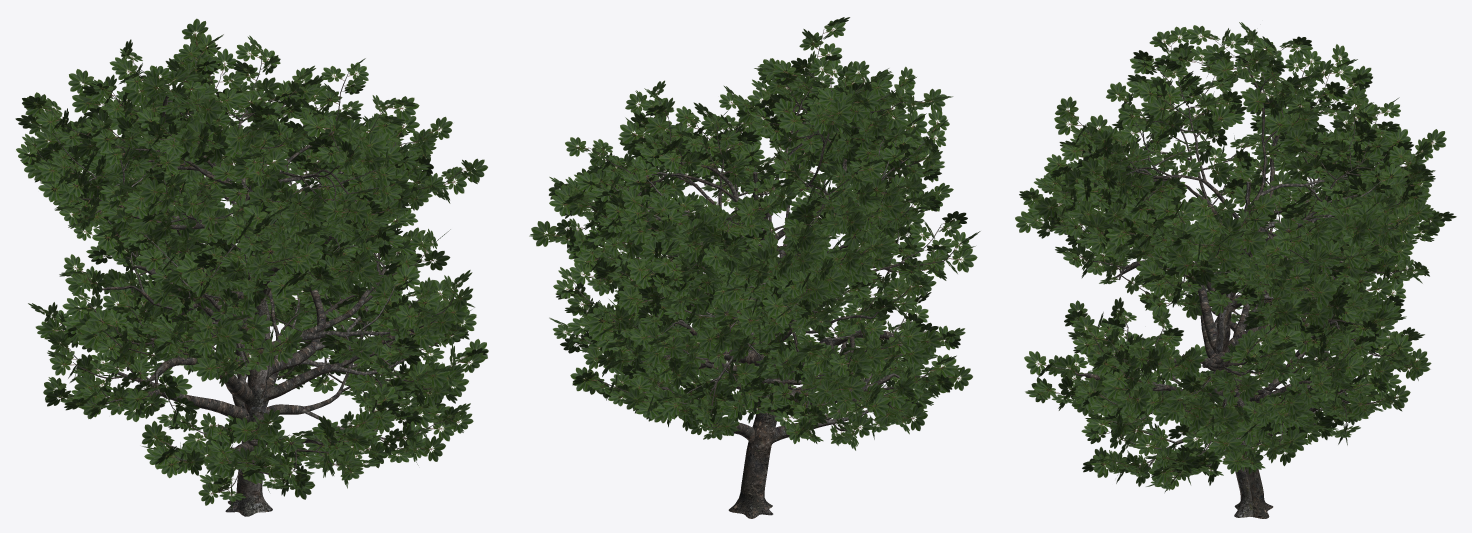
File: Palaquium_luzoniense.glb
The picture shows the model from 3 angles, left to right: view 1: azimuth 30°, elevation 25°; view 2: azimuth 150°, elevation 25°; view 3: azimuth 270°, elevation 25°; orthographic projection. The views are drawn at different scales.
Visible parts, largest first — view 1: Palaquium_philippense; view 2: Palaquium_philippense; view 3: Palaquium_philippense.
Part boxes in pixels (x1,y1,x2,y2): Palaquium_philippense: (15,18,488,516); Palaquium_philippense: (529,17,980,518); Palaquium_philippense: (1015,22,1456,518).
Size of the model in its own units: 13.32 by 14.79 by 13.4.
Materials: 2 (2 with a texture image).
